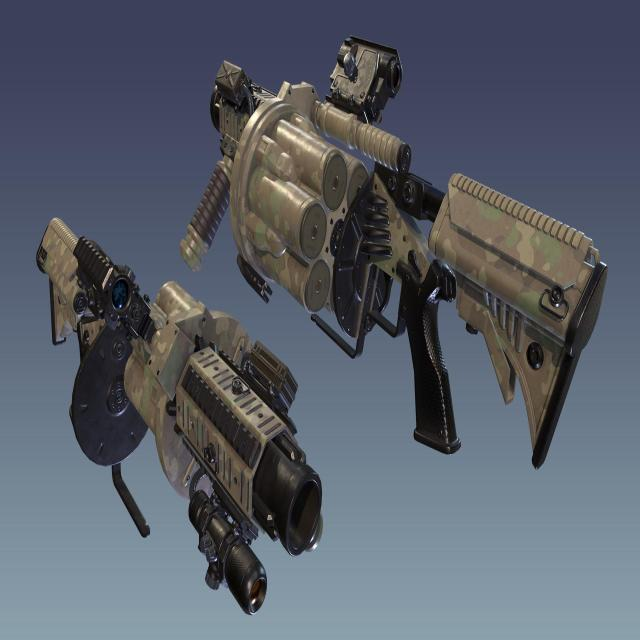weapon: (178, 6, 612, 486), (24, 188, 340, 616)
